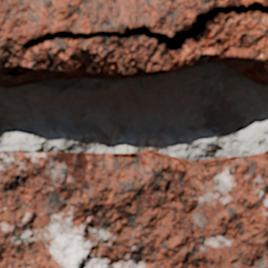brick: (0, 150, 267, 267), (0, 12, 267, 87), (0, 0, 253, 70), (258, 0, 267, 3)
crack: (0, 0, 267, 76)
